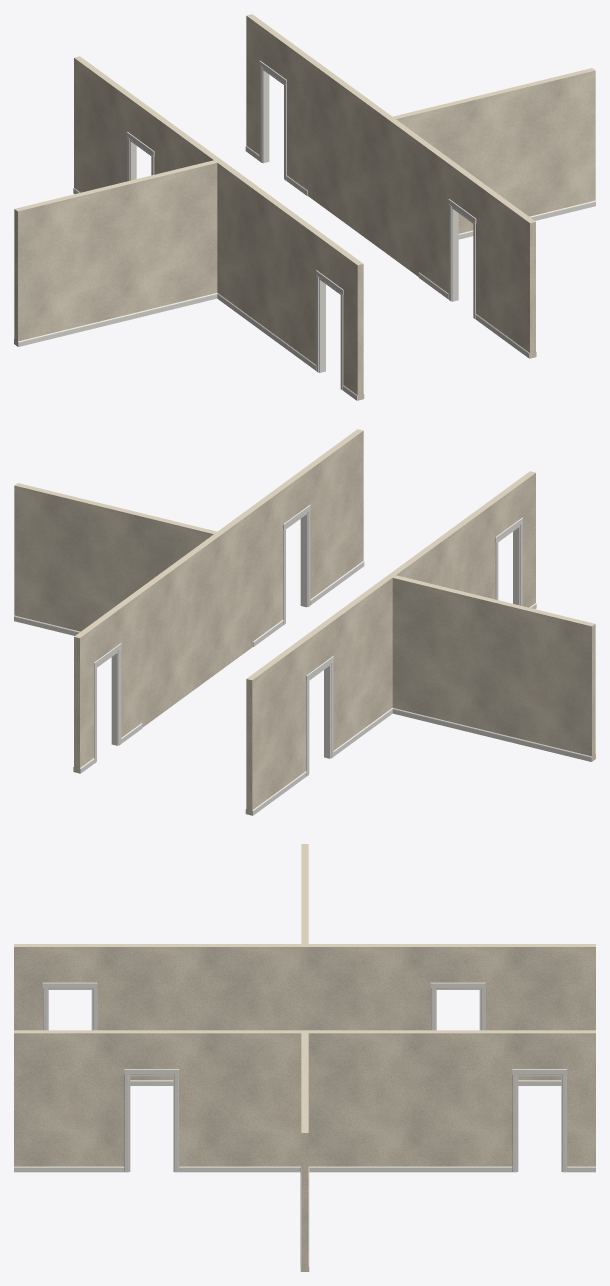
The model's file is plan_upper.glb.
3 renders of one model, top to bottom at view 1: azimuth 30°, elevation 25°; view 2: azimuth 150°, elevation 25°; view 3: azimuth 270°, elevation 25°, orthographic. The views are drawn at different scales.
Parts seen in each view (by area): view 1: plan_upper_plaster, plan_upper_frame, plan_upper_trim; view 2: plan_upper_plaster, plan_upper_frame, plan_upper_trim; view 3: plan_upper_plaster, plan_upper_frame, plan_upper_trim.
Part boxes in pixels (box(x1,y1,x2,y2)): plan_upper_plaster: box(14, 14, 595, 400); plan_upper_frame: box(126, 60, 476, 390); plan_upper_trim: box(14, 145, 595, 400); plan_upper_plaster: box(14, 429, 595, 815); plan_upper_frame: box(94, 504, 522, 776); plan_upper_trim: box(14, 560, 595, 815); plan_upper_plaster: box(14, 844, 595, 1271); plan_upper_frame: box(42, 982, 567, 1172); plan_upper_trim: box(14, 1080, 595, 1271).
Size of the model in its own units: 13.4 by 3 by 11.4.
3 materials, 1 textured.
